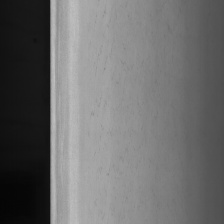silk_spot: (90, 6, 137, 189)
